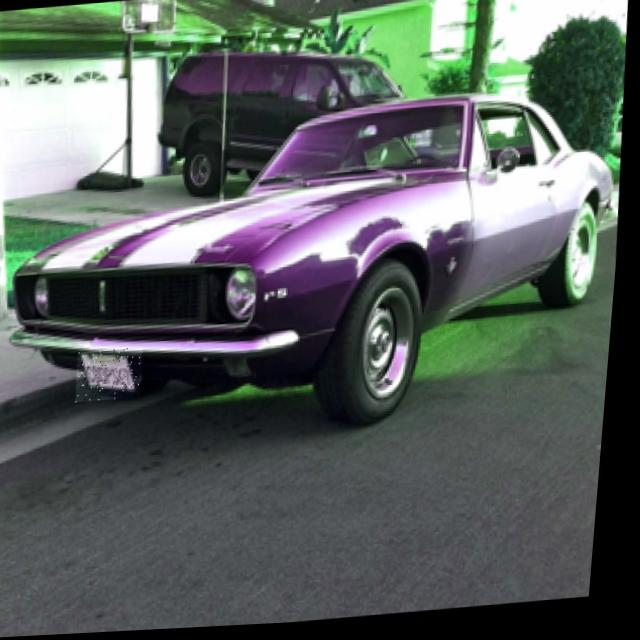license_plate: (80, 349, 150, 404)
